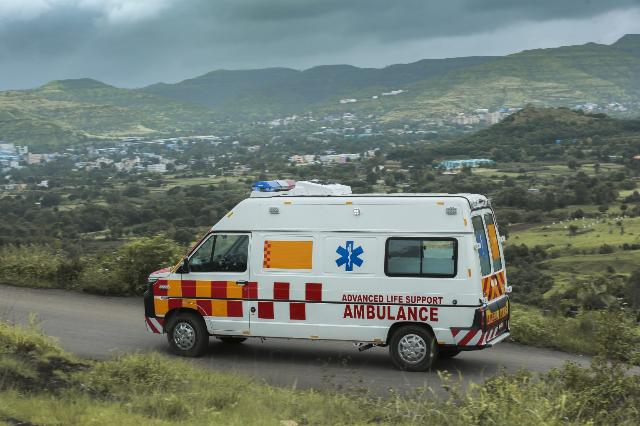ambulance: (143, 174, 517, 368)
